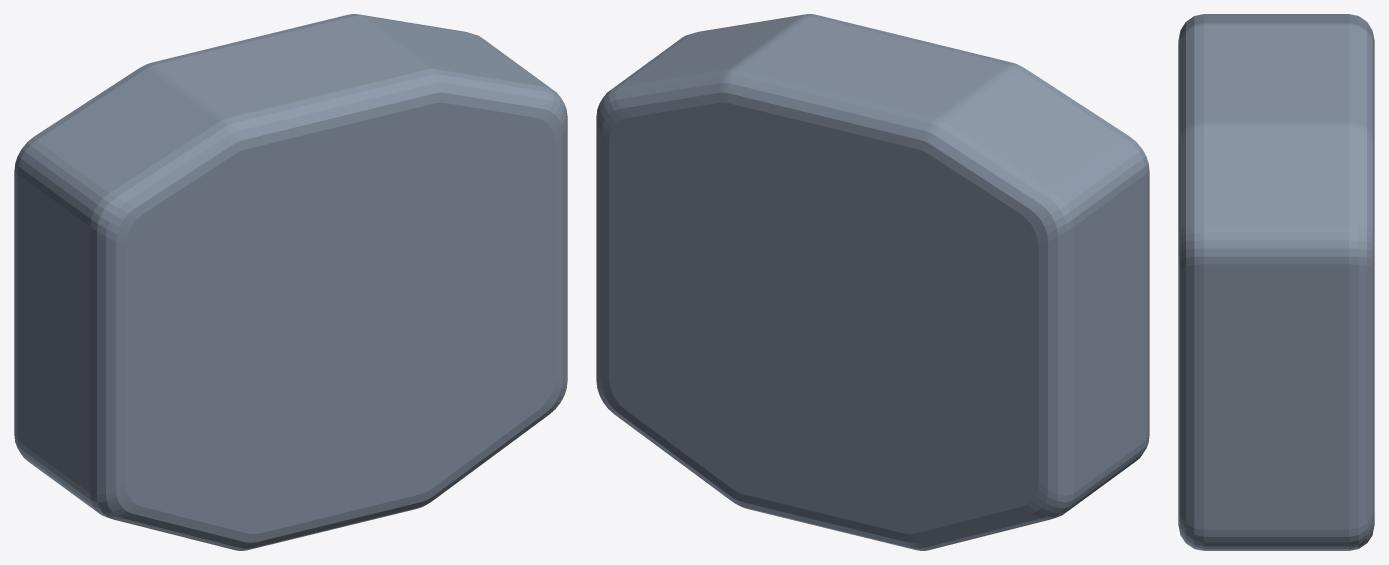
The model's file is SM_S3_Commandement.obj.
3 views of the same model, side by side, from view 1: azimuth 30°, elevation 25°; view 2: azimuth 150°, elevation 25°; view 3: azimuth 270°, elevation 25° (orthographic).
Size of the model in its own units: 32000 by 28000 by 11500.
